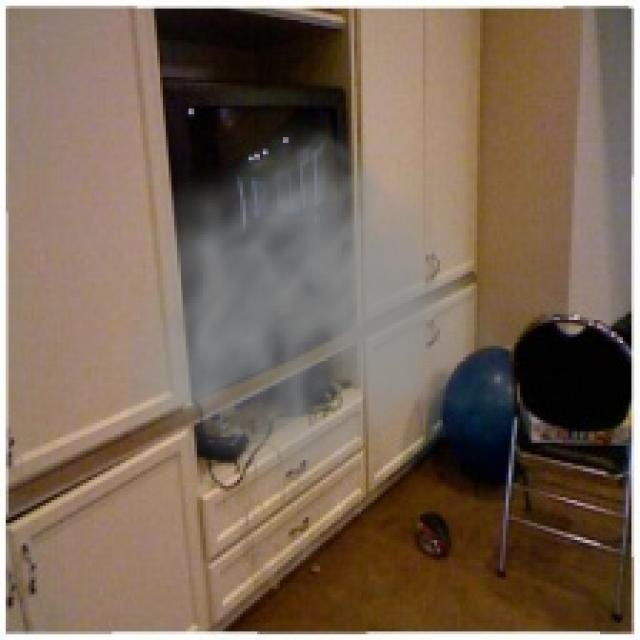Smoke: (128, 111, 518, 508)
